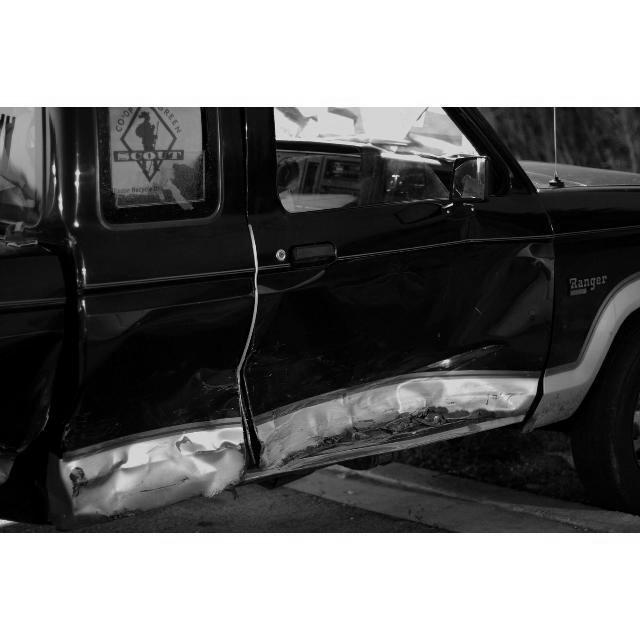Runningboard-Damage: (243, 414, 536, 480)
doorouter-dent: (245, 195, 532, 405), (53, 266, 237, 498)
